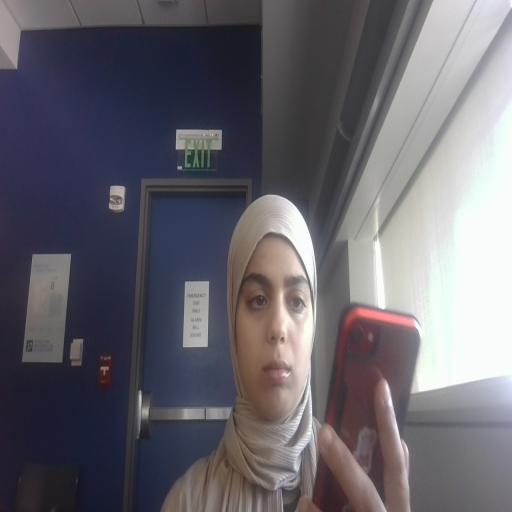phone: (295, 222, 428, 512)
